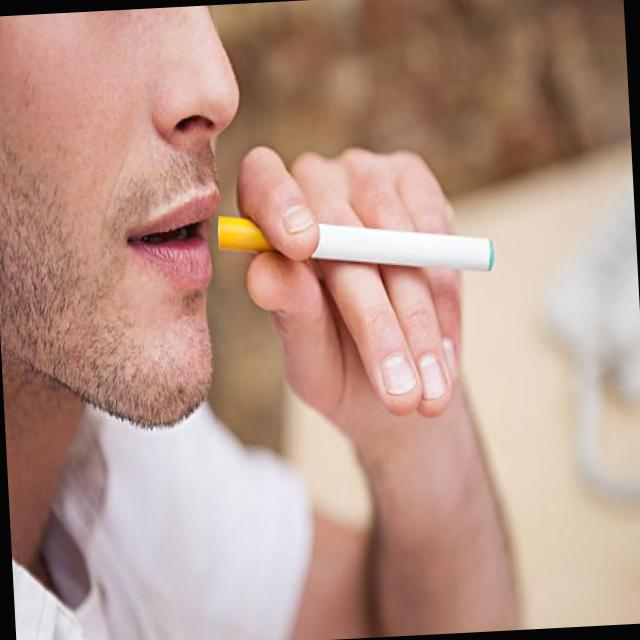cigarette: (213, 195, 502, 289)
